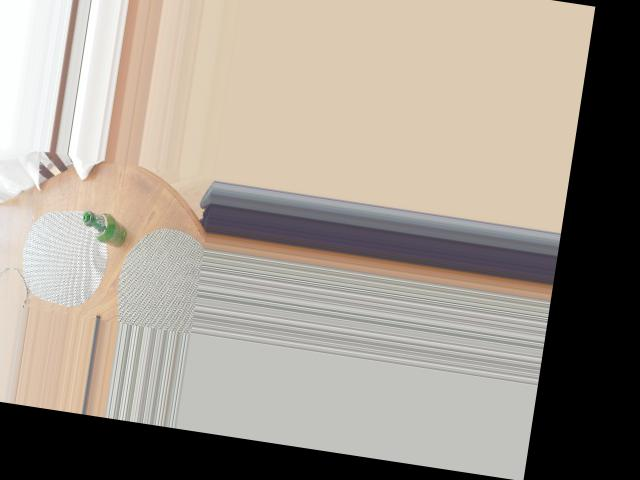beer: (79, 209, 130, 247)
